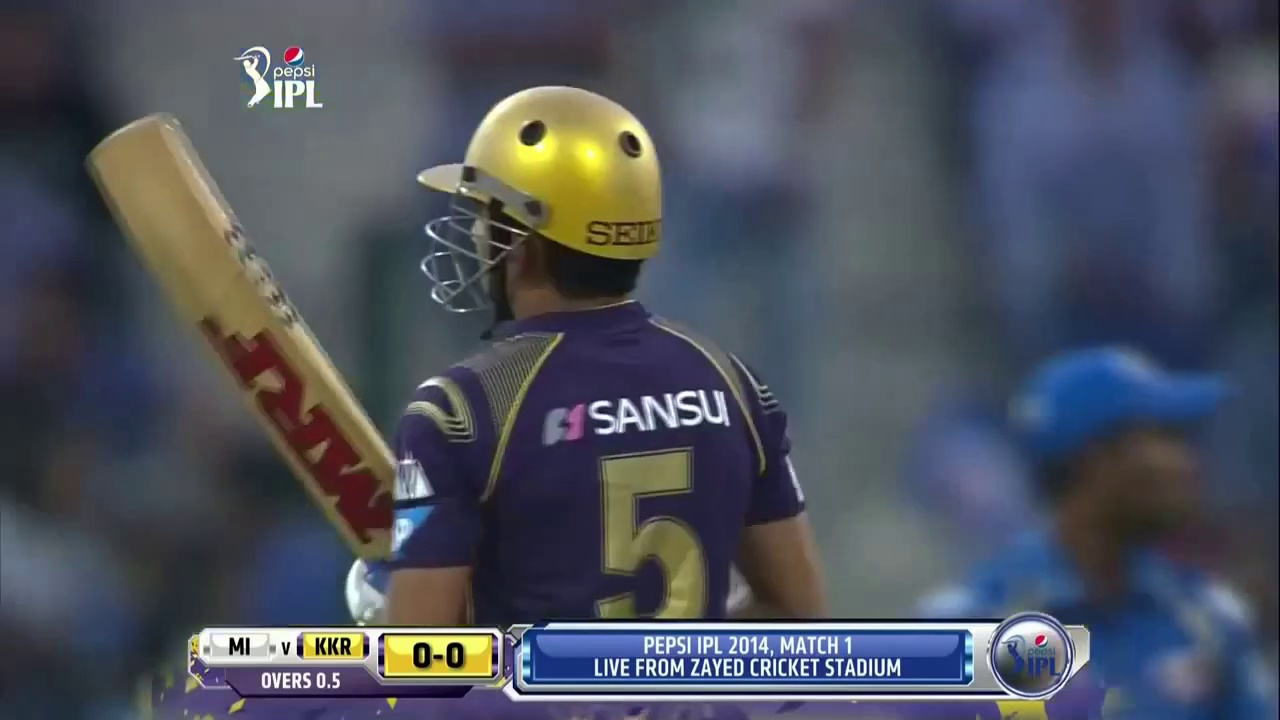bat: (84, 109, 396, 450)
